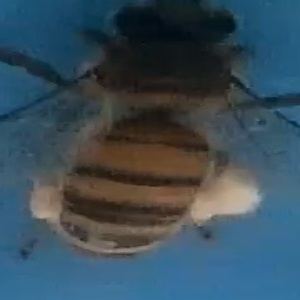bee: (12, 3, 295, 267)
